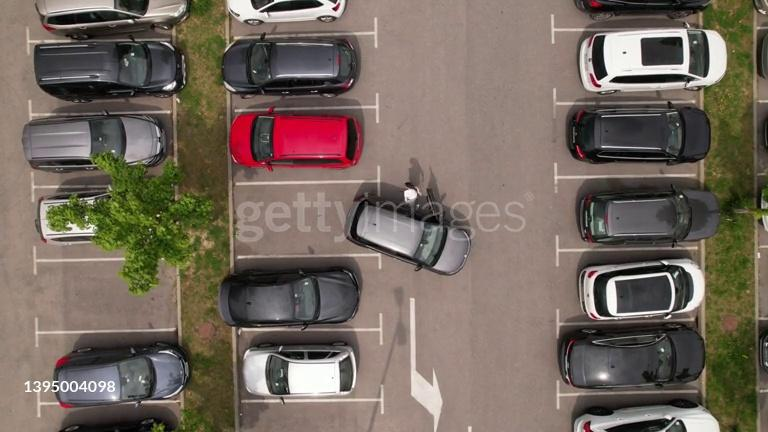car: (352, 190, 476, 266), (561, 325, 706, 388), (52, 340, 188, 404), (574, 35, 732, 90), (580, 185, 726, 243), (31, 188, 186, 242), (216, 270, 360, 326), (226, 343, 360, 403), (574, 106, 714, 161), (220, 34, 362, 86), (578, 261, 708, 313), (234, 115, 364, 165), (25, 121, 168, 165), (31, 59, 192, 98), (573, 399, 722, 431), (36, 3, 192, 32), (220, 0, 358, 24), (582, 2, 709, 22), (60, 418, 184, 430), (755, 29, 767, 78), (755, 186, 767, 230), (756, 330, 767, 373), (762, 328, 768, 373), (763, 186, 768, 226), (752, 0, 766, 14), (764, 114, 768, 150)
